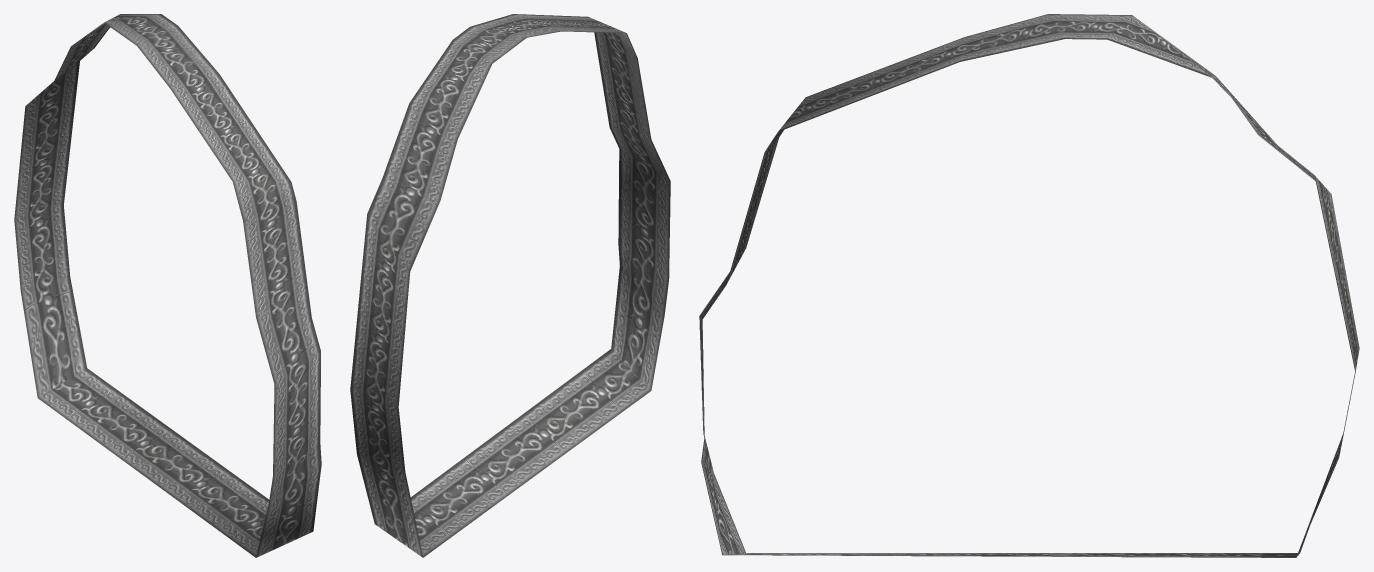
File: EKH_BARRELROOM_PS_JA1_OBJECT09.fbx
3 views of the same model, side by side, from view 1: azimuth 30°, elevation 25°; view 2: azimuth 150°, elevation 25°; view 3: azimuth 270°, elevation 25° (orthographic). The views are drawn at different scales.
Parts seen in each view (by area): view 1: EKH_BARRELROOM_PS_JA1_OBJECT09; view 2: EKH_BARRELROOM_PS_JA1_OBJECT09; view 3: EKH_BARRELROOM_PS_JA1_OBJECT09.
Boxes of the visible parts, left/top/right/bottom form: EKH_BARRELROOM_PS_JA1_OBJECT09: left=14, top=14, right=321, bottom=557; EKH_BARRELROOM_PS_JA1_OBJECT09: left=350, top=14, right=670, bottom=557; EKH_BARRELROOM_PS_JA1_OBJECT09: left=699, top=14, right=1359, bottom=557.
Bounding box in the file's own units: 3541 × 30241 × 33286.
1 material, 1 textured.
